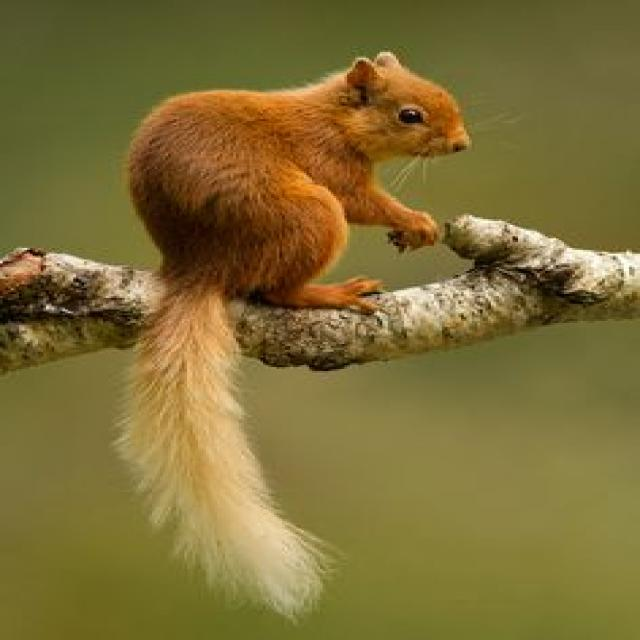Herbivorous: (117, 52, 472, 621)
